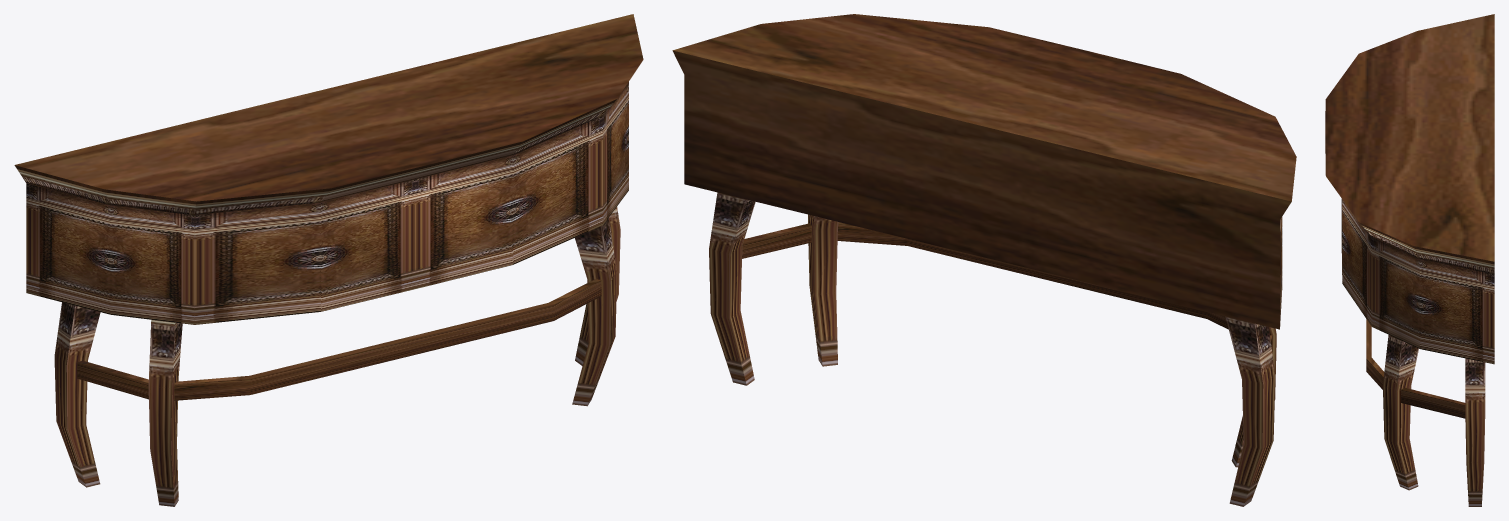
The model's file is Table08.glb.
3 renders of one model, left to right at view 1: azimuth 30°, elevation 25°; view 2: azimuth 150°, elevation 25°; view 3: azimuth 270°, elevation 25°, orthographic. The views are drawn at different scales.
Parts seen in each view (by area): view 1: _Table08; view 2: _Table08; view 3: _Table08.
Boxes of the visible parts, x1,y1,x2,y2 form: _Table08: (14, 14, 643, 506); _Table08: (672, 14, 1296, 506); _Table08: (1325, 14, 1494, 506).
Size of the model in its own units: 2.05 by 1.03 by 0.5933.
Materials: 1 (1 with a texture image).
